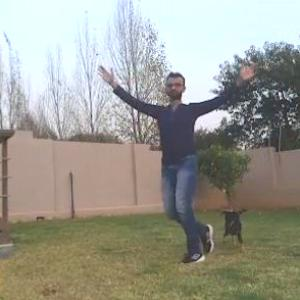takeoff: (120, 66, 264, 264)
